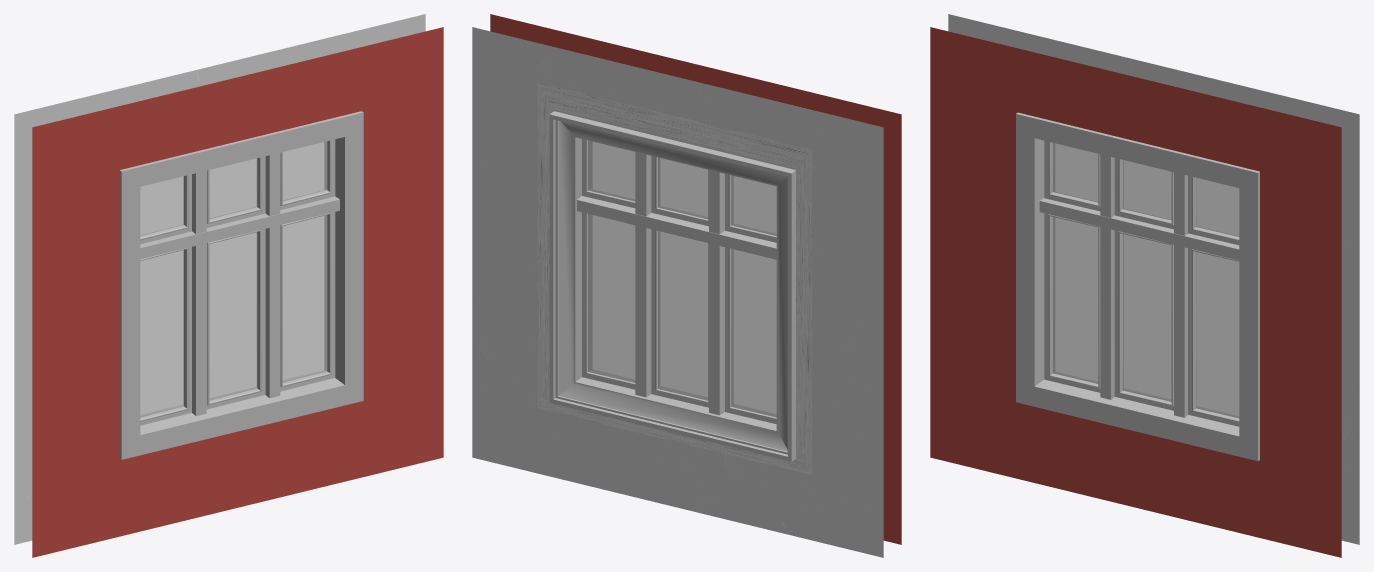
Rendered from SM_BuildingFacade_Window_350x400uu_A2.fbx.
3 views of the same model, side by side, from view 1: azimuth 30°, elevation 25°; view 2: azimuth 150°, elevation 25°; view 3: azimuth 330°, elevation 25° (orthographic).
Parts seen in each view (by area): view 1: SM_BuildingFacade_Window_350x400uu_A2; view 2: SM_BuildingFacade_Window_350x400uu_A2; view 3: SM_BuildingFacade_Window_350x400uu_A2.
Part boxes in pixels (x1=…): SM_BuildingFacade_Window_350x400uu_A2: x1=14, y1=14, x2=443, y2=557; SM_BuildingFacade_Window_350x400uu_A2: x1=472, y1=14, x2=901, y2=557; SM_BuildingFacade_Window_350x400uu_A2: x1=930, y1=14, x2=1359, y2=557.
Bounding box in the file's own units: 400 × 400 × 41.
